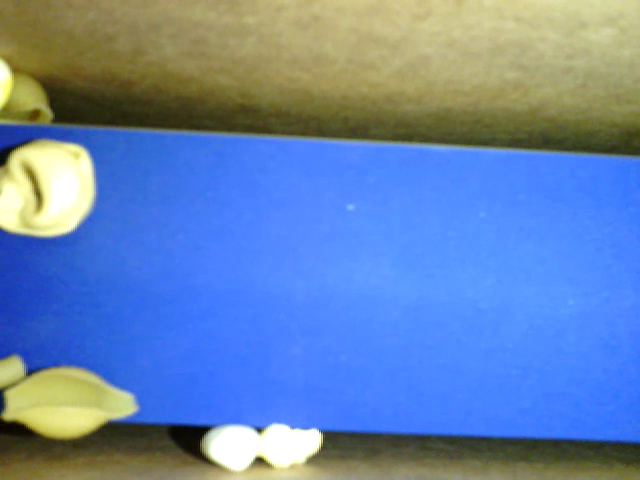shell: (6, 366, 136, 437), (2, 75, 58, 131)
tortellini: (2, 136, 95, 237)
